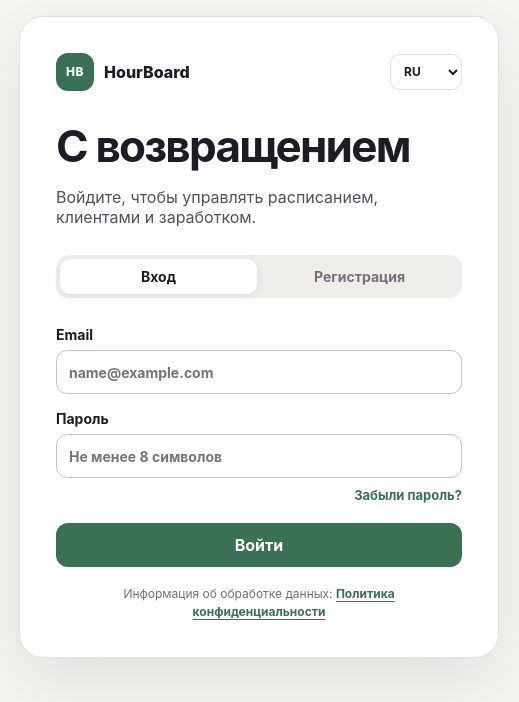
LoginPage › requests a password recovery email
Click the button "Забыли пароль?" at [408, 495], box [354,487,462,503]
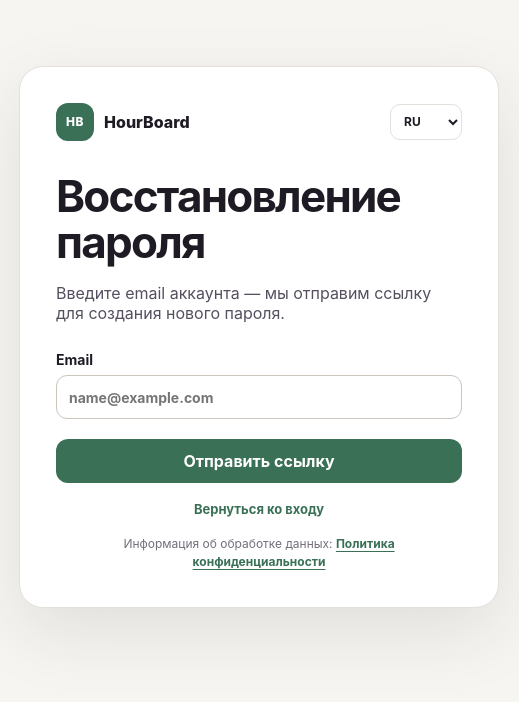
Type " wife@example.com " into the field labelled "Email" at [259, 397], box [56,375,462,419]
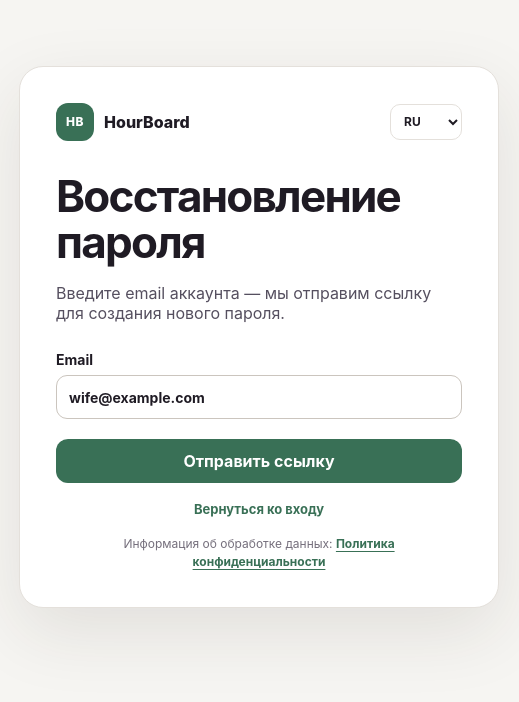
Click the button "Отправить ссылку" at [259, 461], box [56,439,462,483]
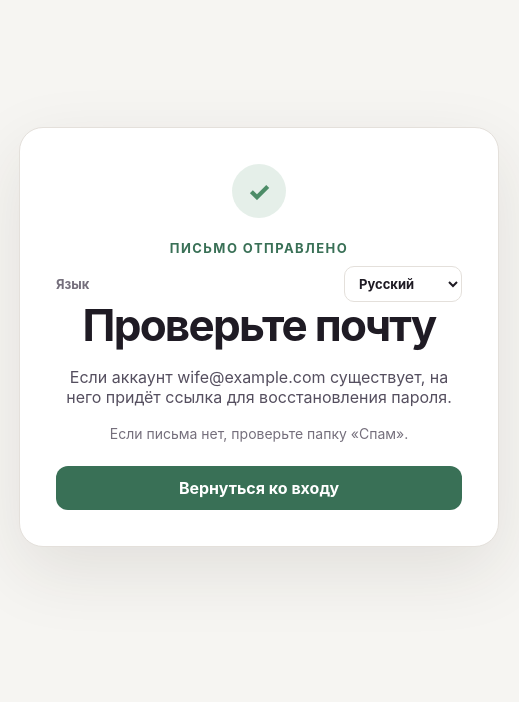
Expected: the text "Письмо отправлено" is shown, [170,240,348,256]
